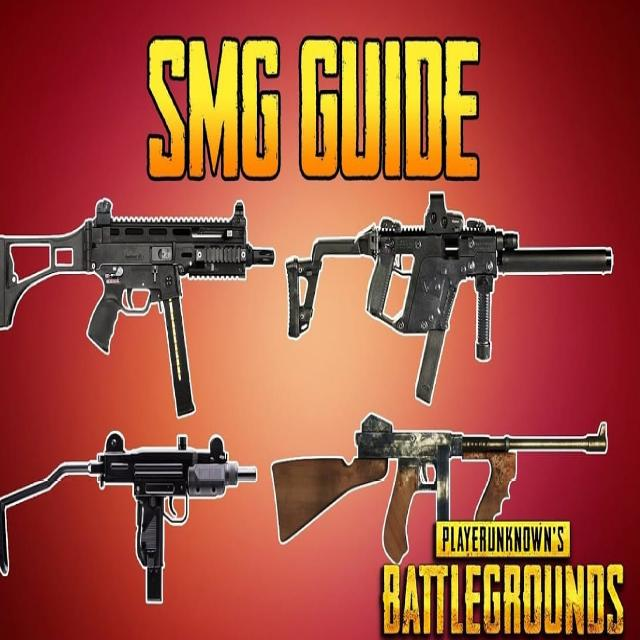Weapon: (287, 192, 613, 404), (0, 198, 274, 416), (272, 413, 607, 563), (0, 432, 256, 602)
